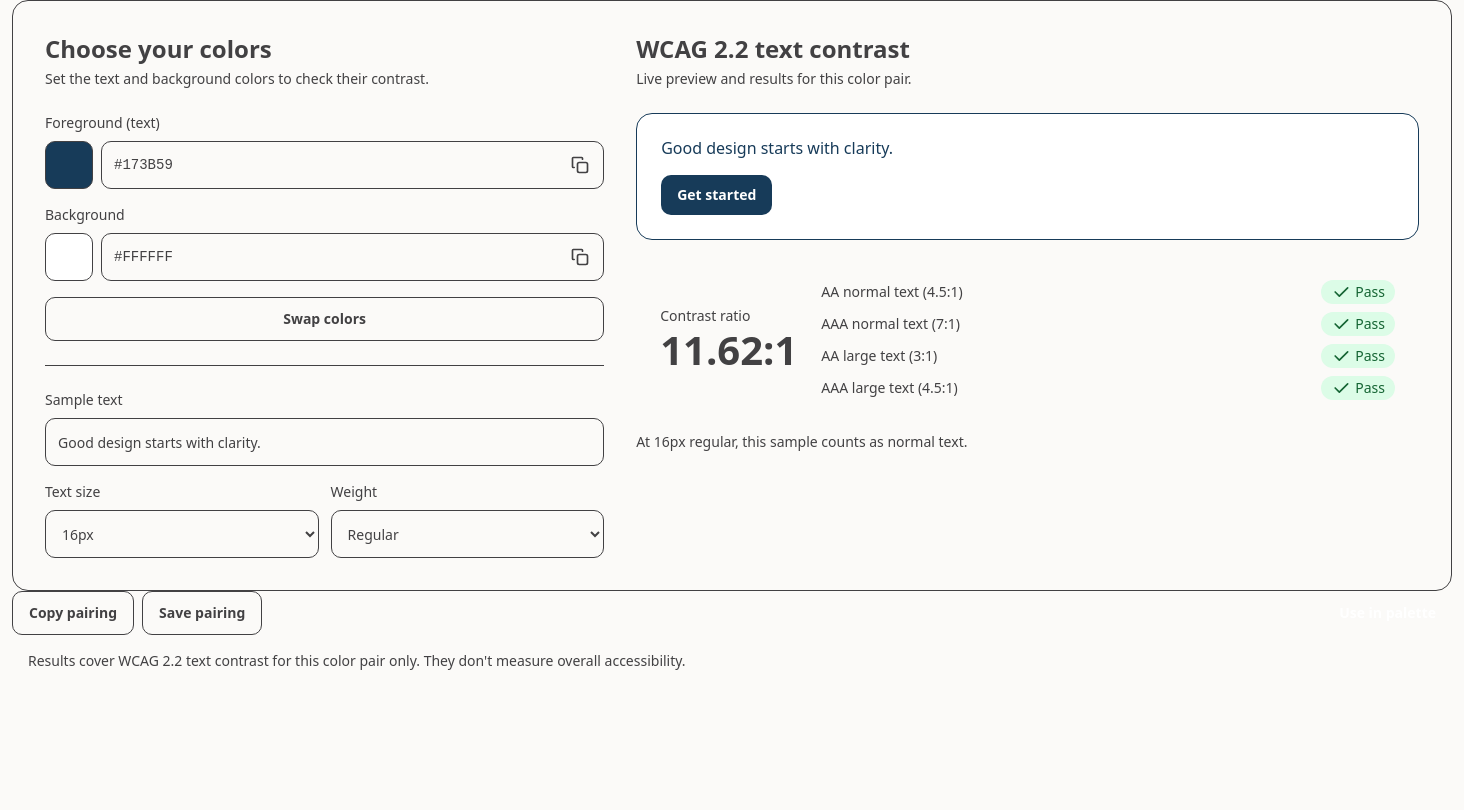
ContrastCheckerView › saves a pairing with its roles and lists it
The width and height of the screenshot is (1464, 810).
Click the button "Save pairing" at (202, 613), box [142,591,262,635]
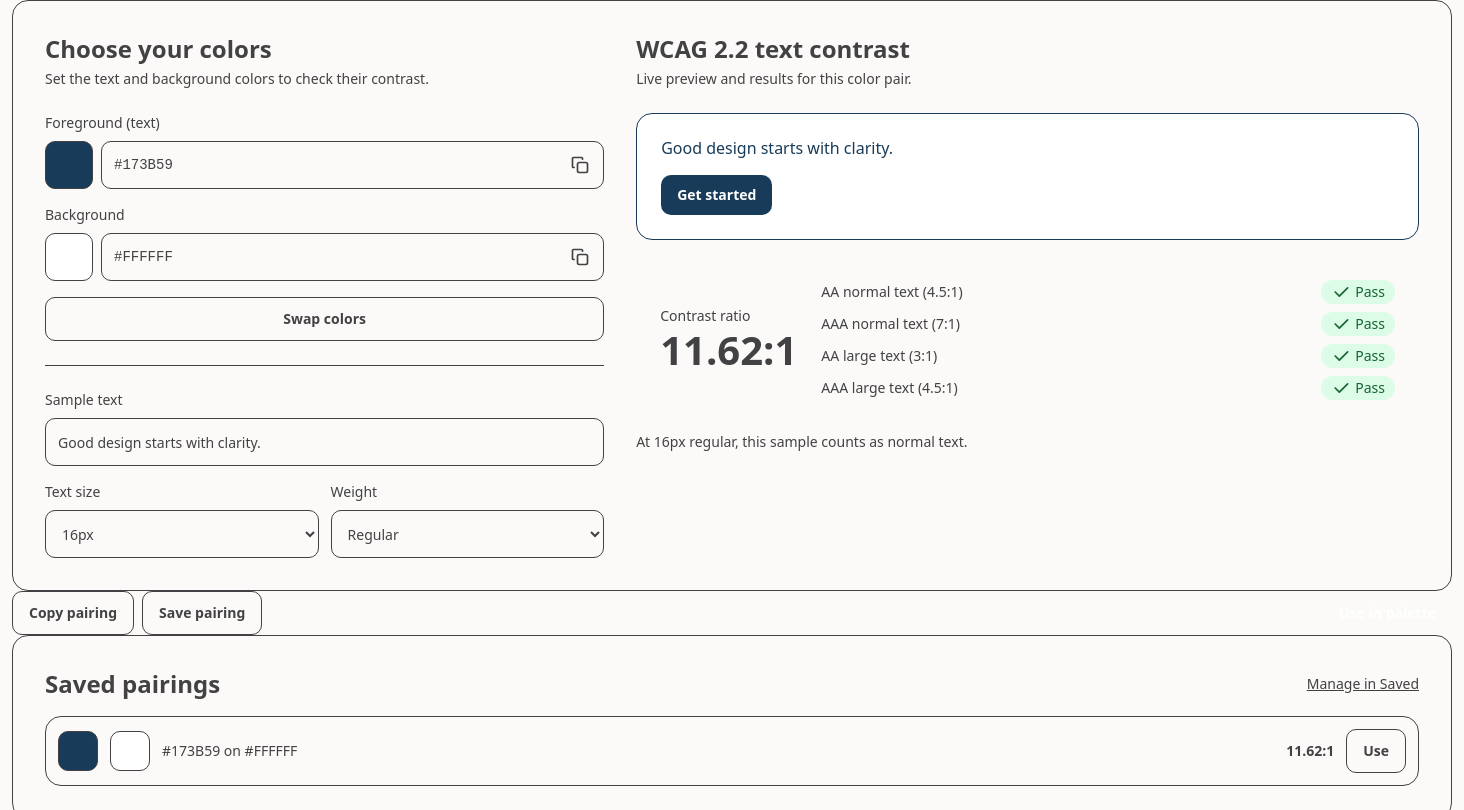
Result: the heading "Saved pairings" is shown at [45,668,220,700]
